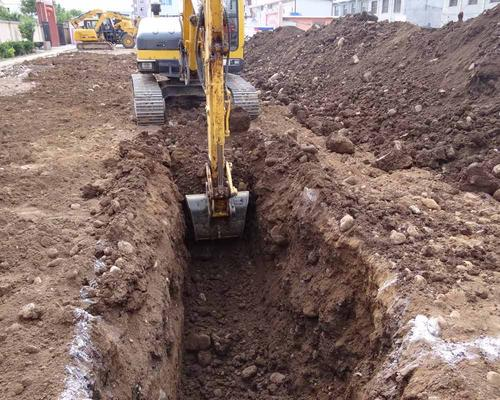excavator: (116, 1, 283, 257), (63, 5, 140, 54)
